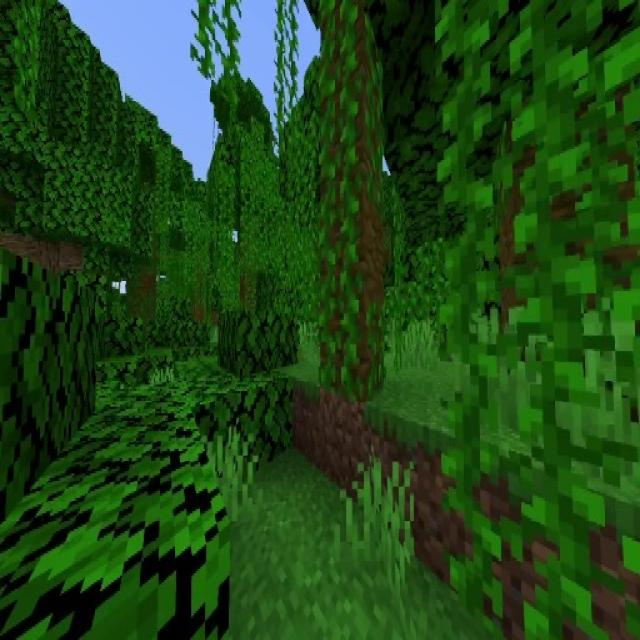jungle_log: (324, 0, 390, 385)
